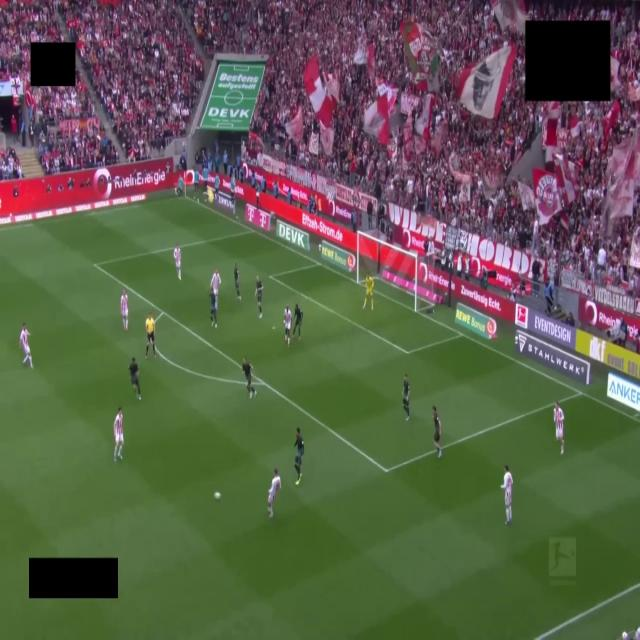ball: (214, 492, 221, 500)
player: (267, 468, 281, 518), (241, 357, 257, 399), (501, 465, 512, 525), (294, 428, 304, 485), (210, 270, 220, 327), (554, 402, 564, 455), (20, 324, 32, 368), (129, 358, 141, 400), (114, 408, 123, 461), (433, 406, 442, 458), (293, 304, 303, 340), (363, 275, 373, 310), (255, 276, 263, 318), (284, 306, 292, 346), (173, 244, 181, 280), (121, 290, 128, 331), (403, 375, 409, 420), (234, 264, 240, 301)
referee: (146, 313, 156, 359)
